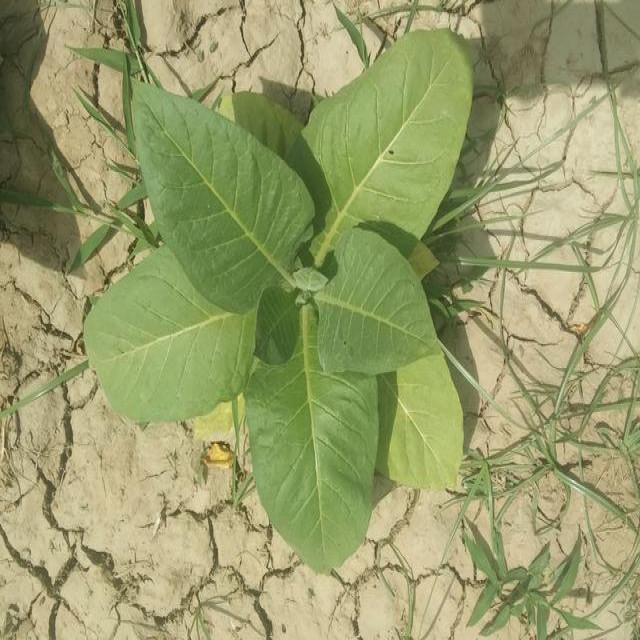crop: (87, 31, 486, 572)
